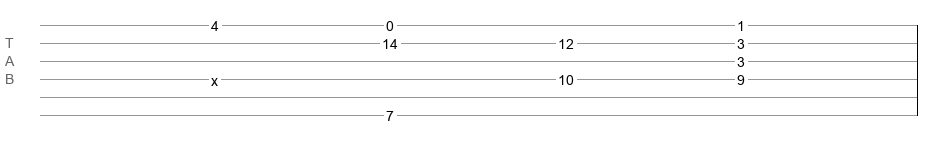0: (386, 18, 394, 28)
1: (737, 18, 745, 28)
10: (558, 72, 574, 82)
12: (558, 36, 574, 46)
14: (382, 36, 398, 46)
3: (737, 54, 745, 64), (737, 36, 745, 46)
4: (211, 18, 219, 28)
7: (386, 108, 394, 118)
9: (737, 72, 745, 82)
x: (211, 73, 218, 81)
